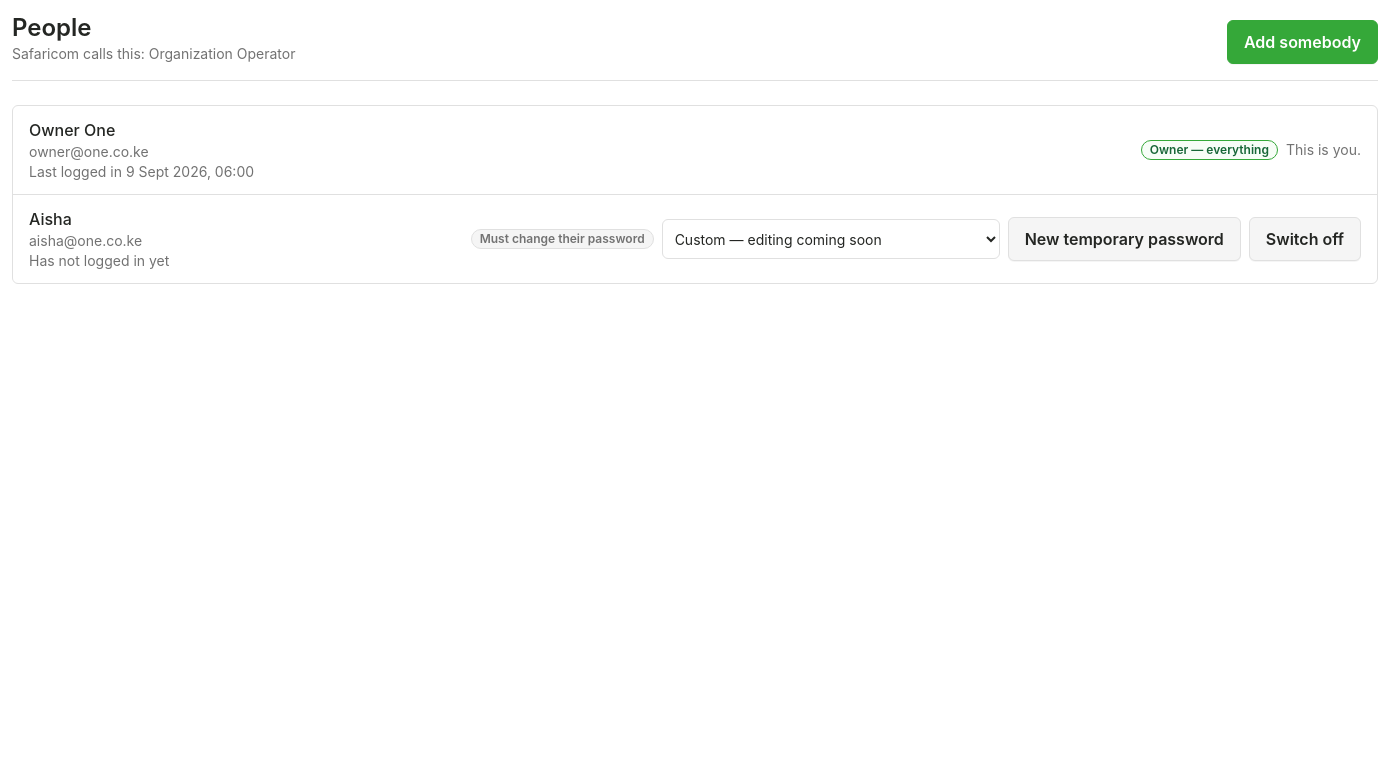
Scenario: People › keeps custom roles visible but unavailable until permission editing exists
Expected: the dropdown shows "Custom — editing coming soon", [662,219,1000,259]
Click the button "Add somebody". click: x=1302, y=42
box: [1227,20,1378,64]
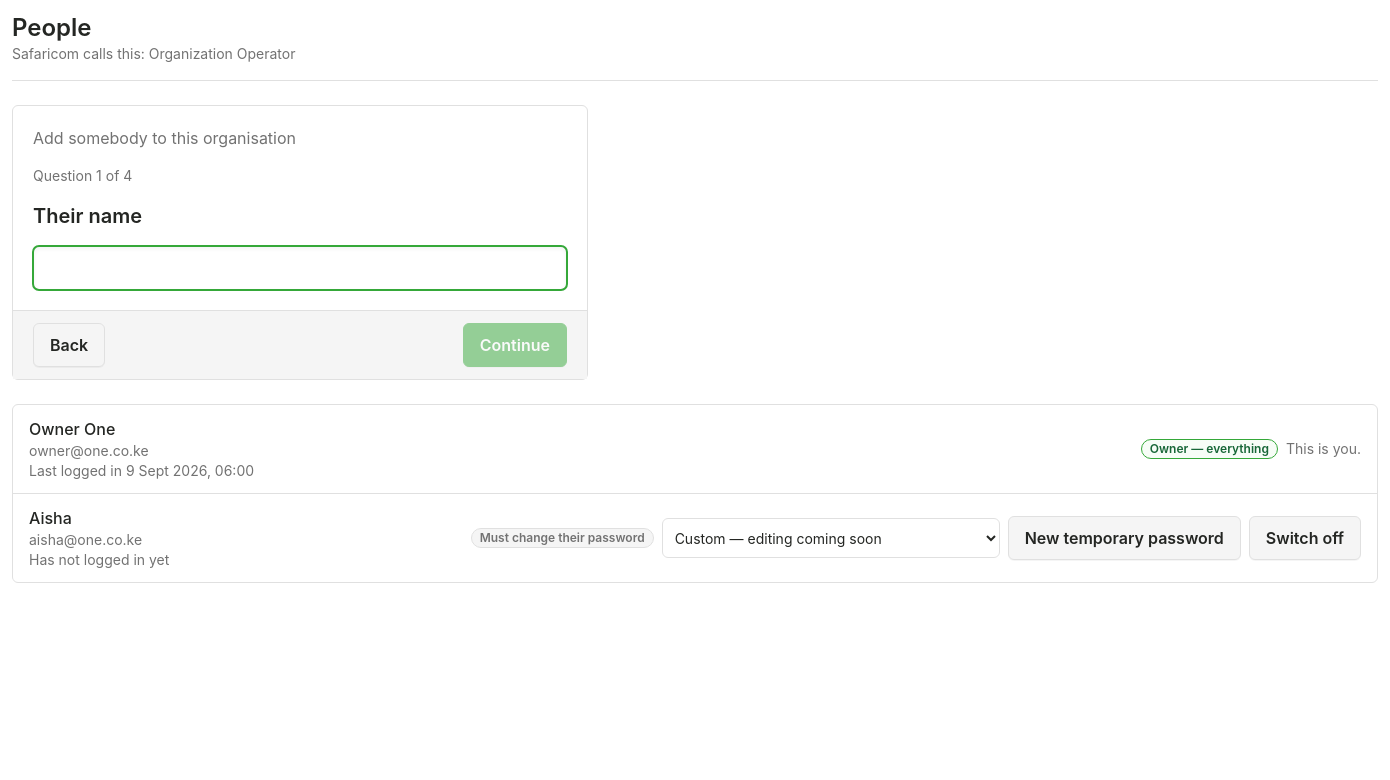
Type "Joe" into the field named "Their name". click: x=300, y=268
box: [33,246,567,290]
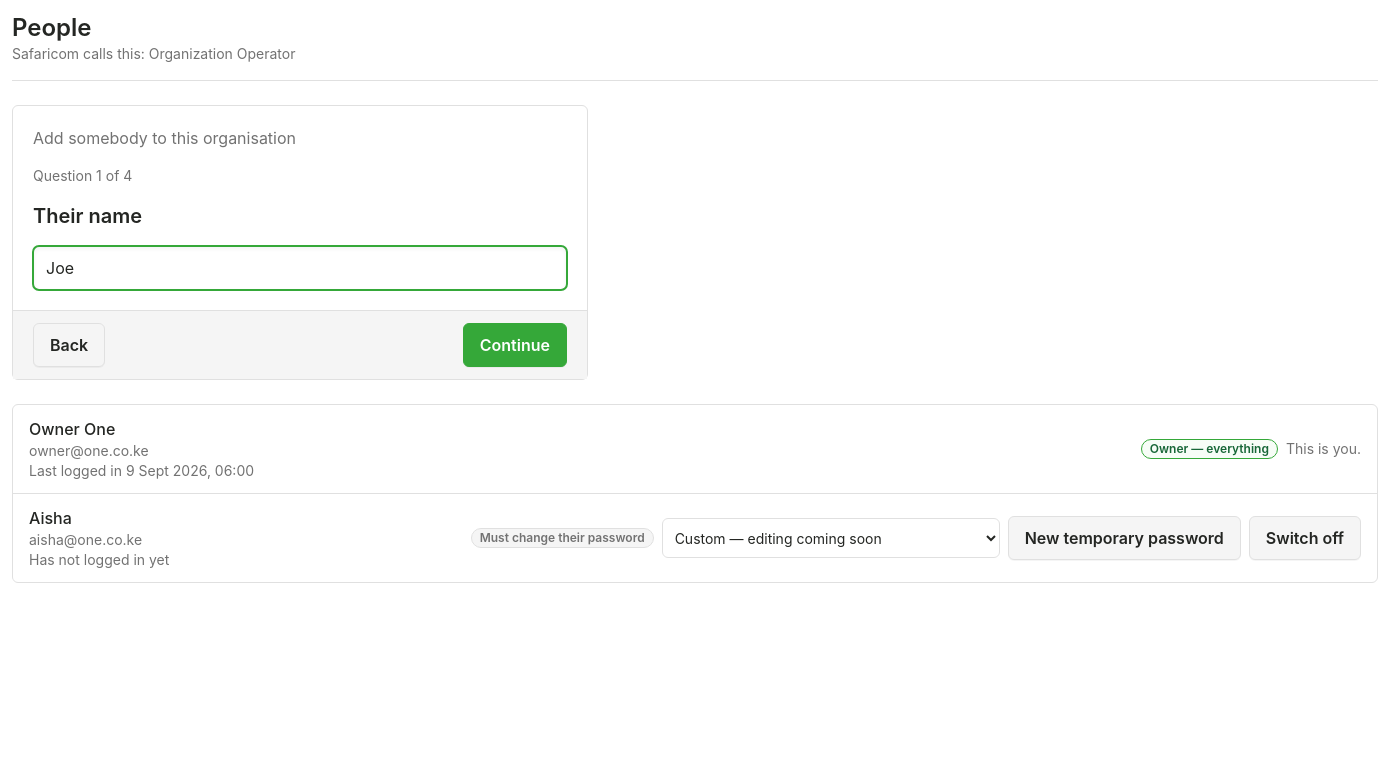
Click the button "Continue". click: x=515, y=345
box: [463,323,567,367]
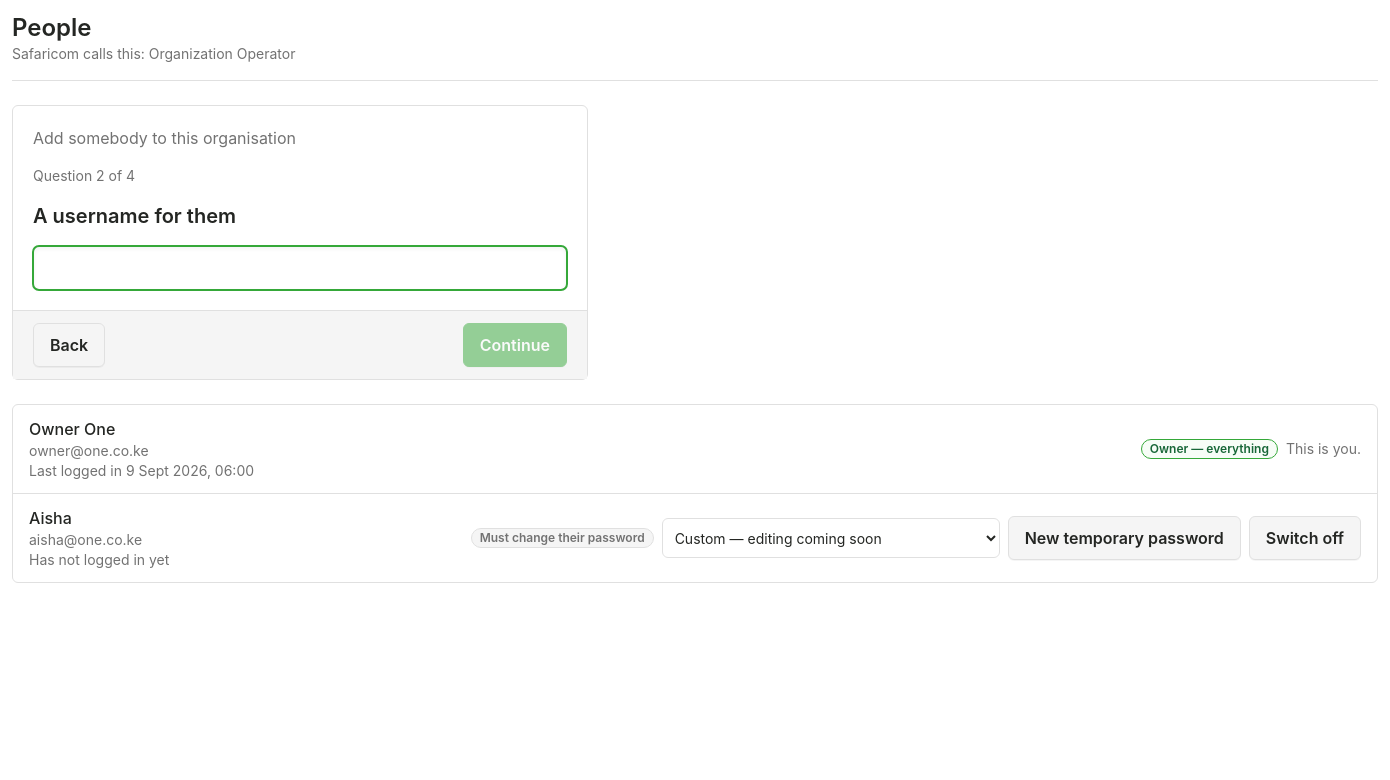
Type "joe" into the field named "A username for them". click: x=300, y=268
box: [33,246,567,290]
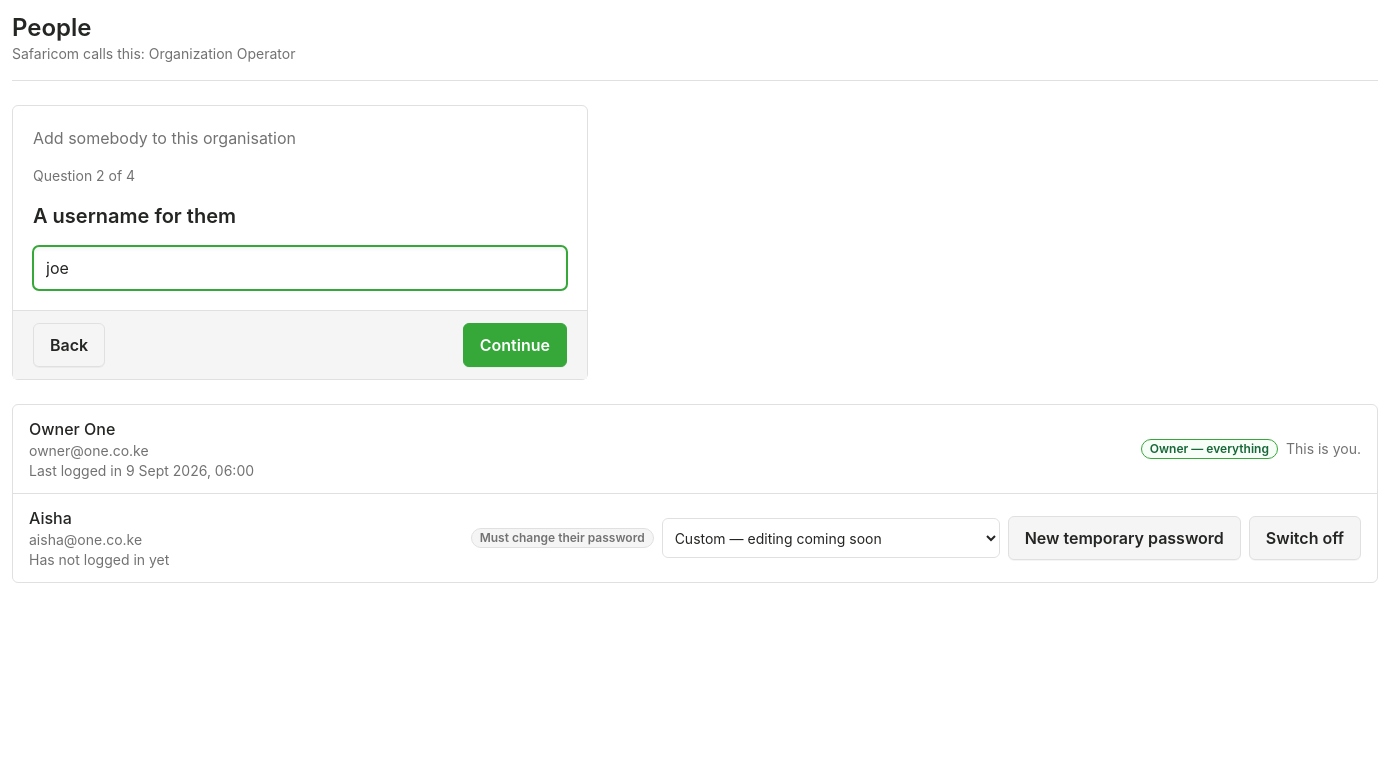
Click the button "Continue". click: x=515, y=345
box: [463,323,567,367]
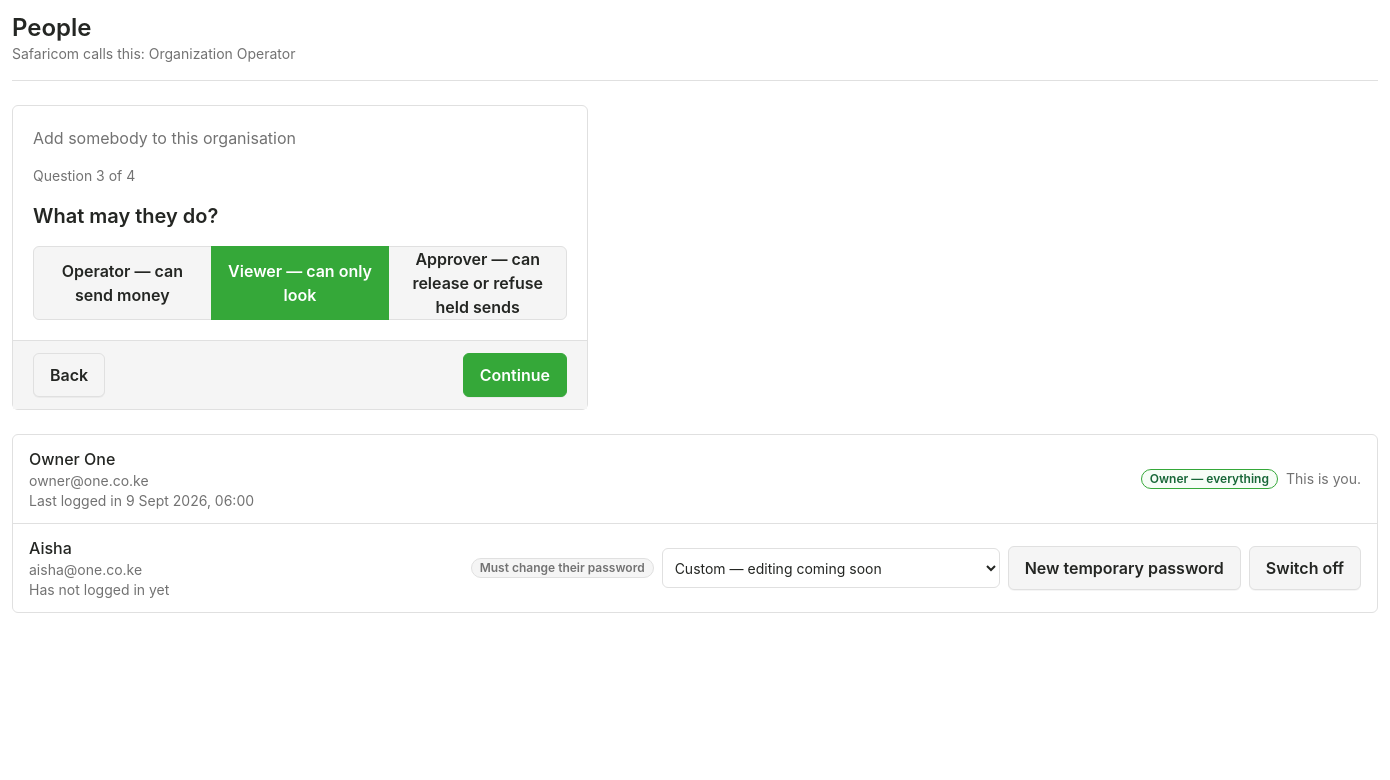
Expected: the radio button labelled "Viewer — can only look" is checked, [211,246,389,320]
Expected: the radio button labelled "Operator — can send money" is shown, [33,246,212,320]
